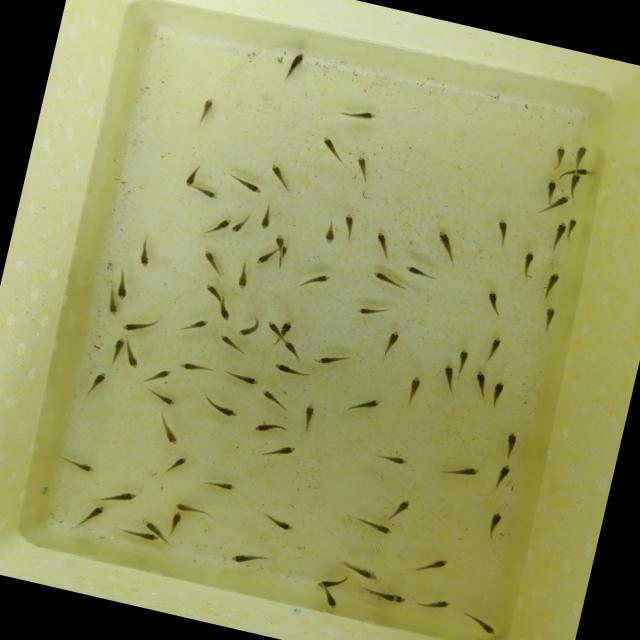fingerling: (228, 543, 282, 573), (72, 500, 108, 536), (307, 346, 356, 372), (346, 512, 395, 538), (427, 227, 462, 263), (154, 450, 190, 484), (314, 134, 352, 165), (98, 484, 142, 510), (294, 269, 336, 296), (368, 226, 398, 262), (136, 362, 174, 390), (150, 415, 183, 447), (410, 551, 450, 577), (337, 560, 380, 584), (256, 387, 294, 414), (441, 461, 482, 486), (56, 454, 97, 478), (260, 439, 296, 466), (490, 216, 520, 248), (200, 394, 238, 419), (338, 103, 381, 125), (171, 498, 214, 520), (249, 418, 290, 441), (230, 257, 256, 293), (364, 265, 402, 289), (350, 300, 388, 324), (118, 314, 156, 338), (312, 570, 350, 594), (478, 508, 504, 543), (266, 512, 301, 538), (82, 366, 110, 398), (228, 173, 266, 196), (384, 492, 413, 522), (488, 374, 512, 410), (130, 236, 156, 269), (378, 326, 402, 361), (282, 49, 308, 81), (350, 152, 376, 184), (365, 448, 408, 467), (348, 392, 382, 416), (218, 370, 266, 387), (462, 611, 496, 635), (196, 248, 225, 276), (234, 312, 262, 341), (200, 476, 242, 495), (116, 526, 160, 544), (204, 212, 232, 240), (488, 460, 516, 488), (263, 164, 292, 191), (400, 262, 440, 281), (146, 386, 180, 408), (546, 142, 572, 170), (547, 189, 573, 217), (418, 592, 451, 614), (214, 331, 248, 352), (174, 359, 216, 376), (106, 335, 128, 367), (228, 211, 254, 238), (180, 314, 209, 338), (469, 367, 492, 397), (114, 272, 136, 303), (300, 401, 320, 435), (318, 216, 339, 248), (434, 360, 458, 388), (336, 212, 358, 242), (403, 372, 422, 406), (272, 362, 310, 379), (483, 334, 506, 362), (500, 427, 522, 456), (180, 162, 202, 190), (484, 286, 506, 314), (366, 587, 400, 605), (541, 269, 562, 298), (195, 95, 214, 127), (121, 342, 143, 369), (139, 518, 171, 536), (570, 142, 592, 168), (518, 248, 537, 278), (557, 162, 592, 178), (548, 221, 568, 249), (101, 290, 122, 316), (258, 203, 278, 230), (456, 344, 474, 374), (539, 303, 557, 332), (565, 170, 583, 197), (318, 590, 342, 610), (169, 507, 184, 539), (270, 232, 286, 260), (262, 318, 284, 336), (202, 284, 225, 300), (542, 178, 557, 202), (280, 338, 300, 356), (215, 301, 233, 320), (196, 186, 217, 201), (278, 318, 294, 337), (566, 218, 578, 240), (253, 250, 270, 264)
